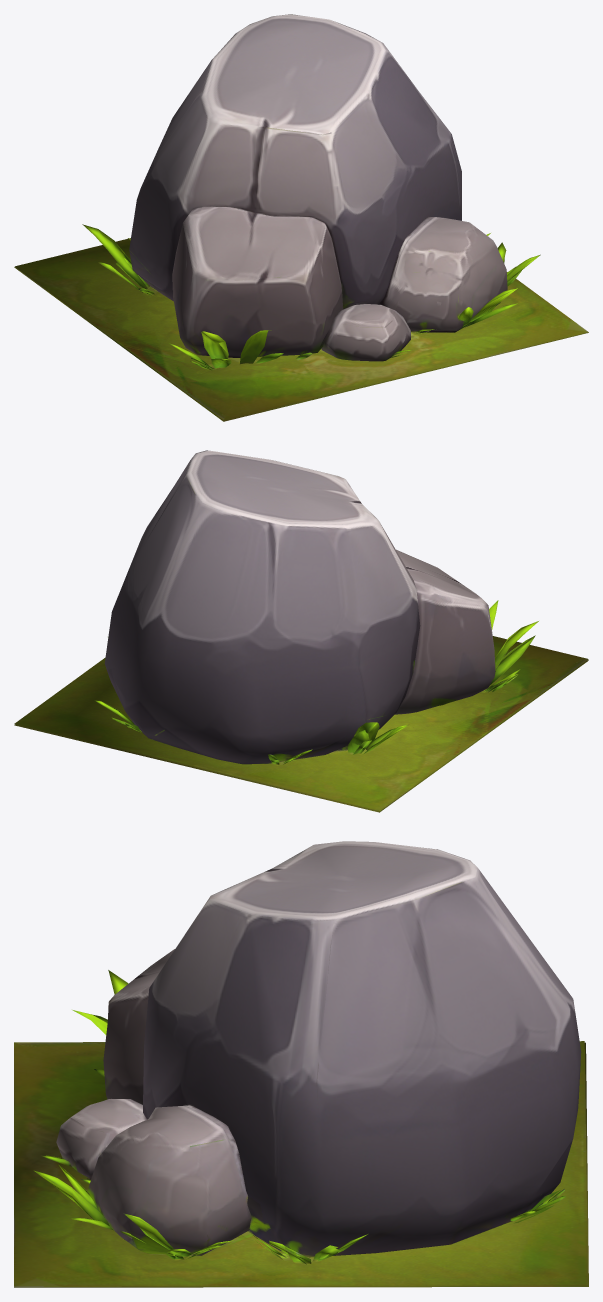
Rendered from etapa100.glb.
The picture shows the model from 3 angles, top to bottom: view 1: azimuth 30°, elevation 25°; view 2: azimuth 150°, elevation 25°; view 3: azimuth 270°, elevation 25°; orthographic projection. The views are drawn at different scales.
Bounding box in the file's own units: 1 × 0.6244 × 0.9988.
1 material, 1 textured.
